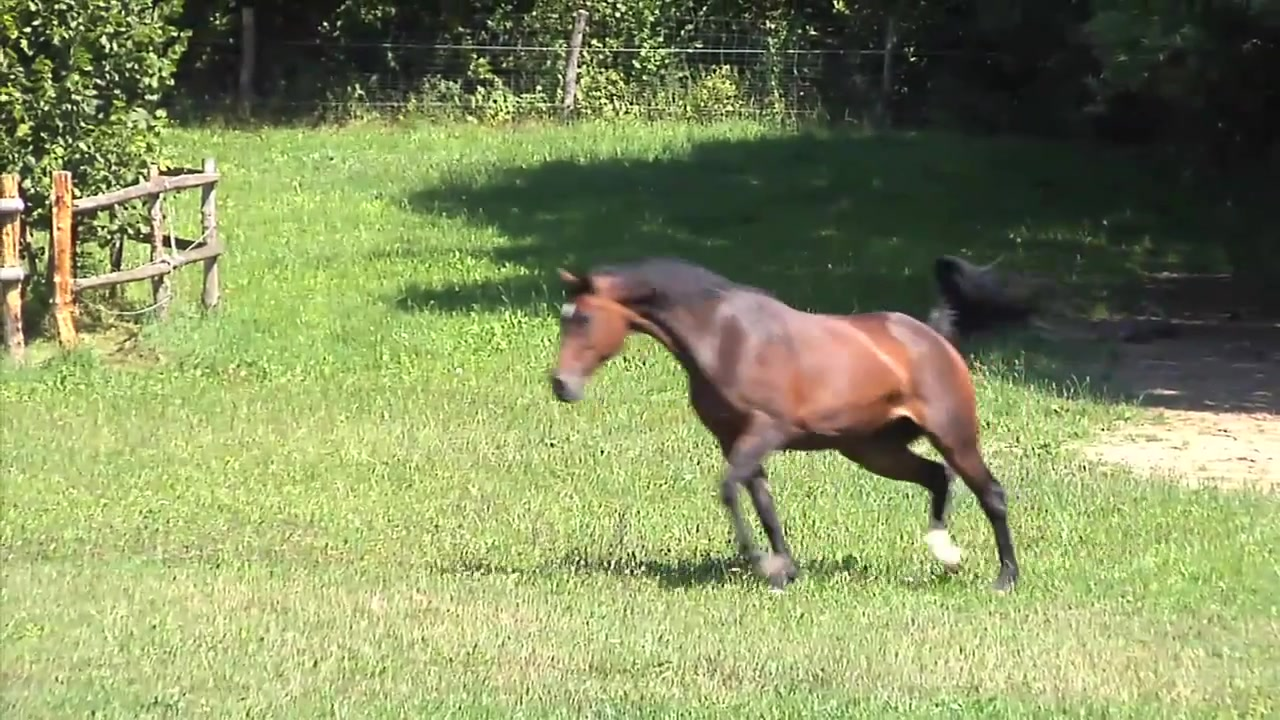horse: (549, 252, 1053, 597)
